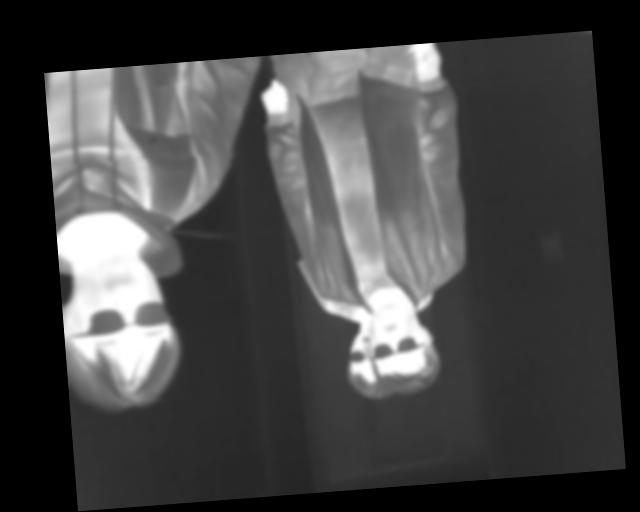face: (61, 250, 184, 417), (366, 297, 442, 398)
